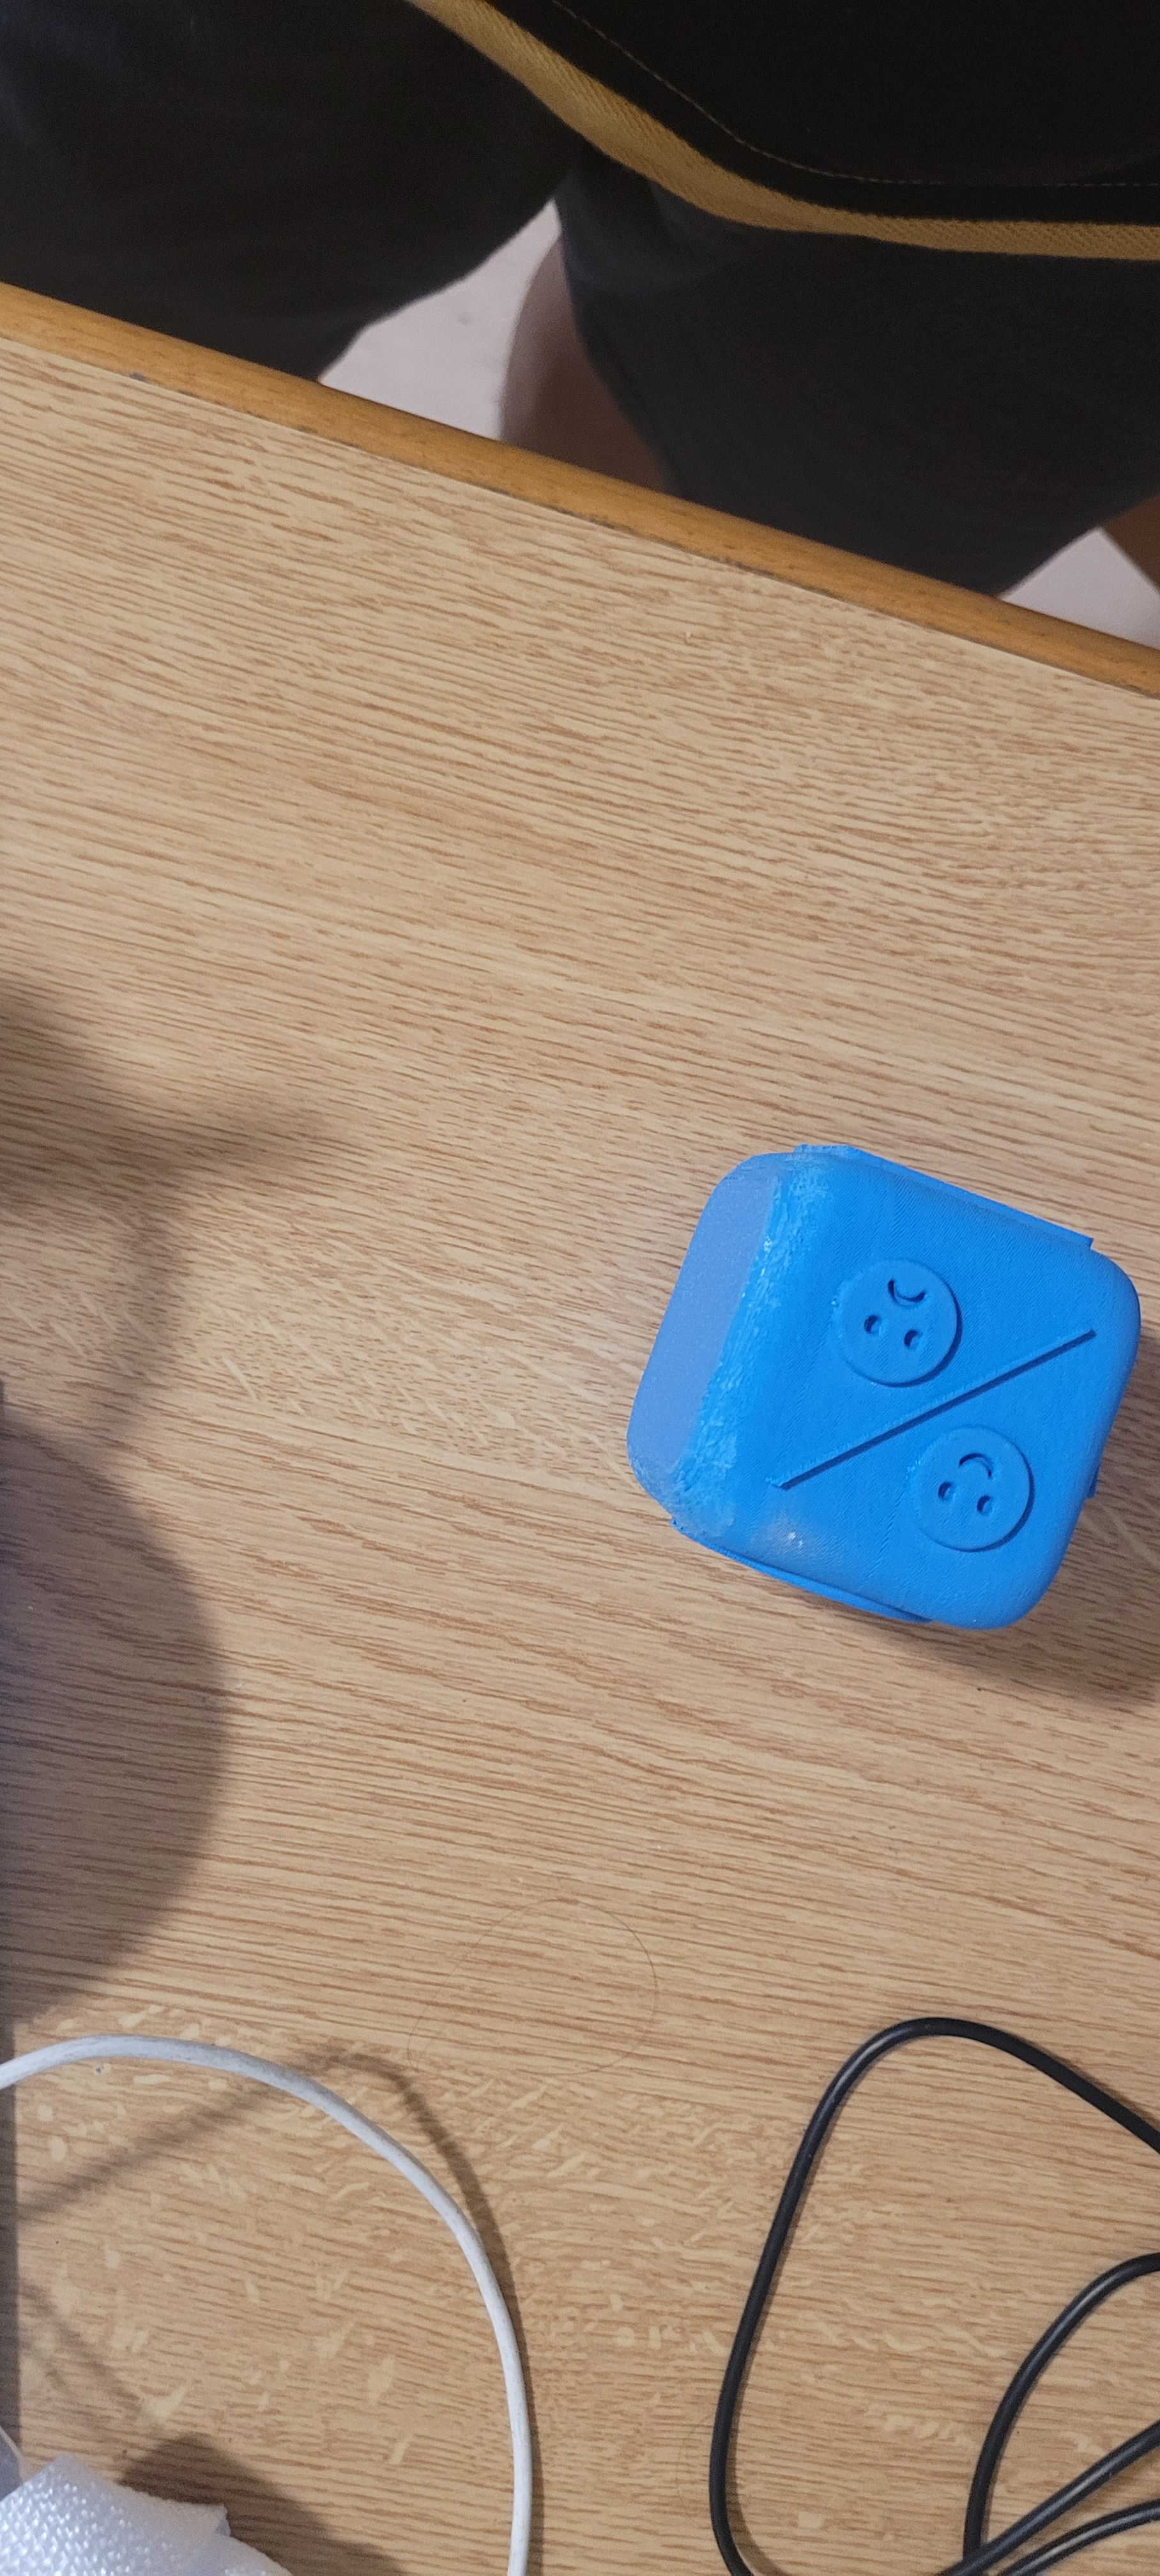Like/Dislike: (771, 1138, 1086, 1640)
